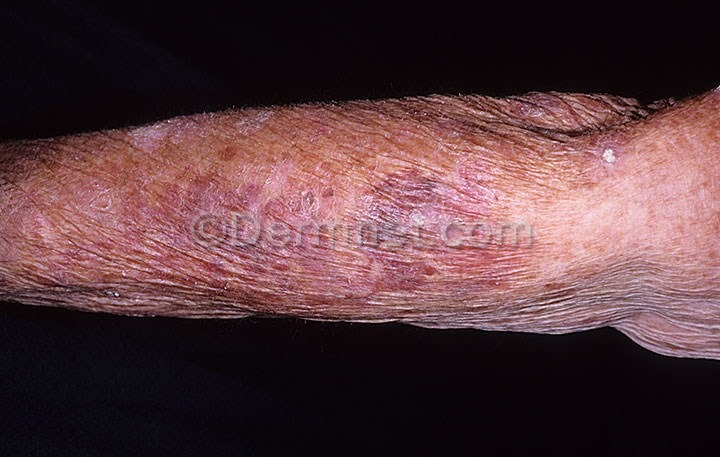Melasma: (0, 98, 720, 216), (0, 243, 720, 346)
